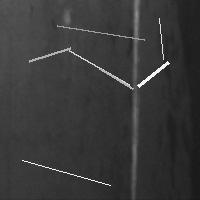scratches: (126, 1, 144, 199), (17, 155, 115, 190), (64, 46, 134, 90), (52, 20, 149, 44), (133, 57, 173, 91), (95, 64, 138, 94), (24, 43, 75, 66), (154, 13, 168, 64)
